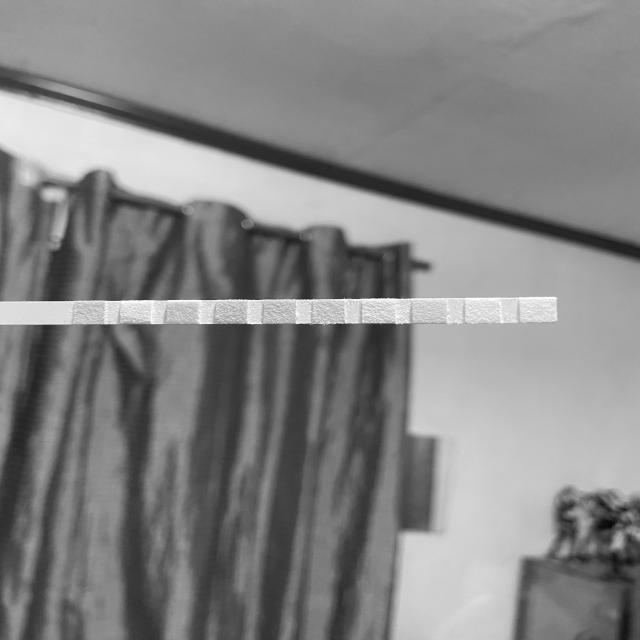Bilirubin: (122, 302, 150, 323)
Blood: (264, 300, 295, 323)
Glucose: (75, 302, 104, 324)
Ketone: (170, 302, 198, 322)
Leukocytes: (520, 298, 555, 322)
Nitrite: (466, 299, 500, 322)
Protein: (364, 300, 395, 322)
SpGravity: (218, 301, 245, 322)
Urobilinogen: (413, 299, 446, 322)
background: (0, 0, 640, 640)
pH: (314, 300, 344, 322)
strip: (0, 297, 557, 325)
